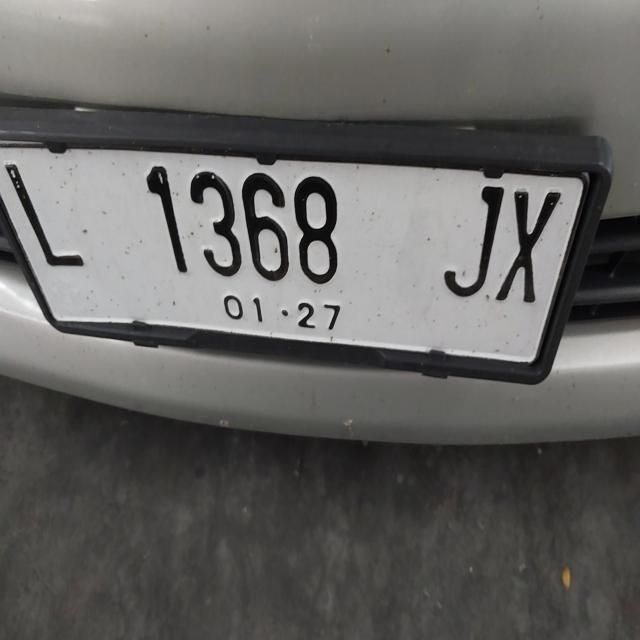1: (132, 138, 200, 316)
3: (182, 150, 248, 294)
6: (232, 160, 296, 294)
8: (284, 154, 352, 302)
J: (434, 158, 506, 316)
L: (5, 135, 111, 297)
X: (503, 170, 571, 341)
